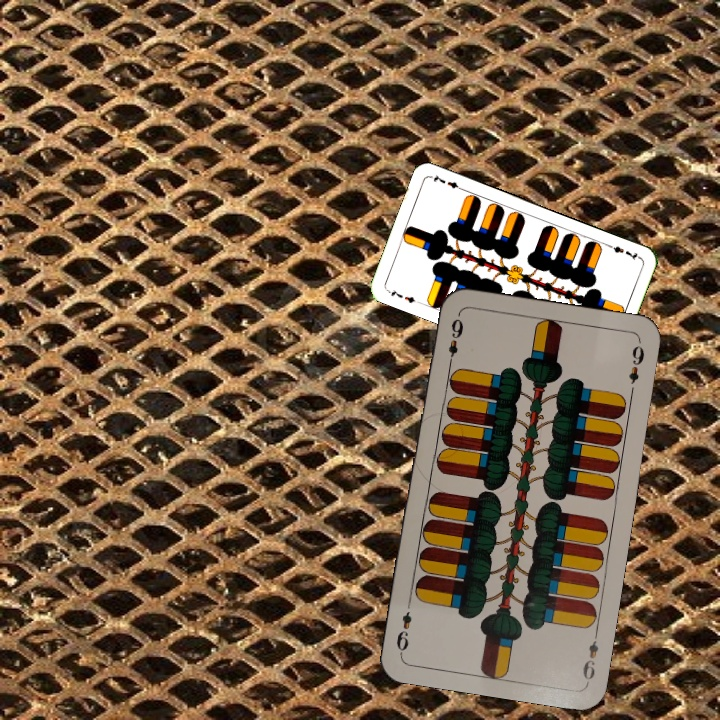E7: (603, 240, 642, 263), (384, 285, 418, 306)
E9: (578, 627, 601, 685), (444, 311, 466, 370)
